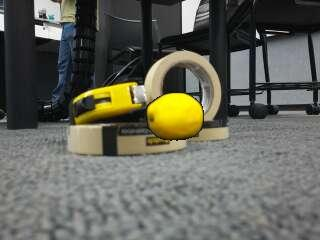lemon: (148, 94, 203, 140)
